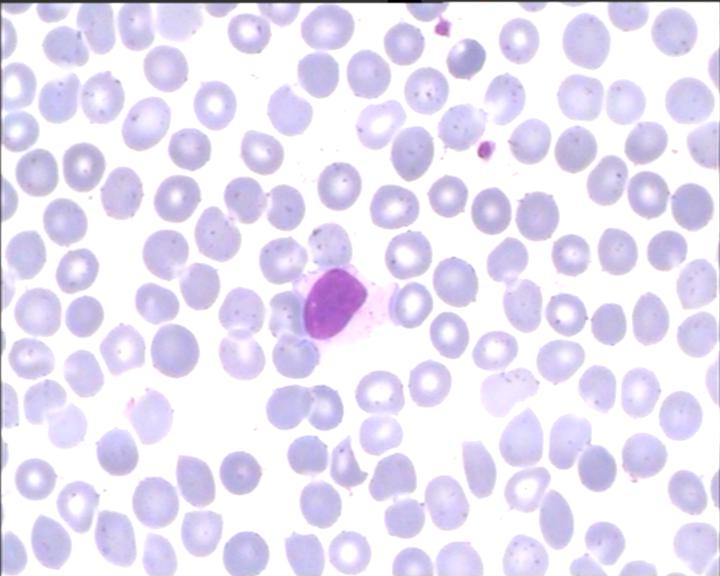mono: (283, 266, 402, 348)
